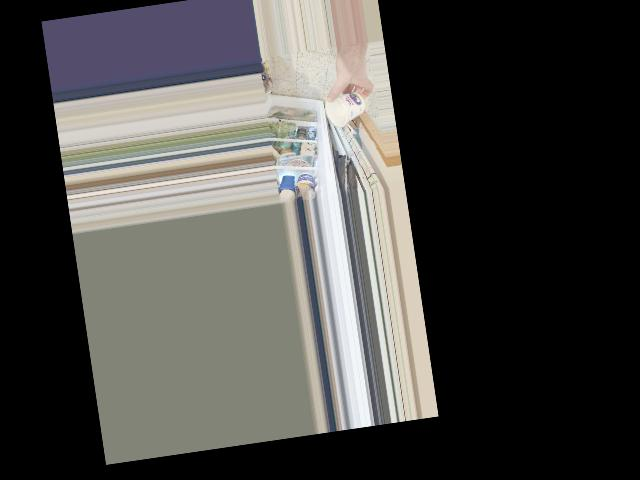cotage: (330, 87, 368, 130)
